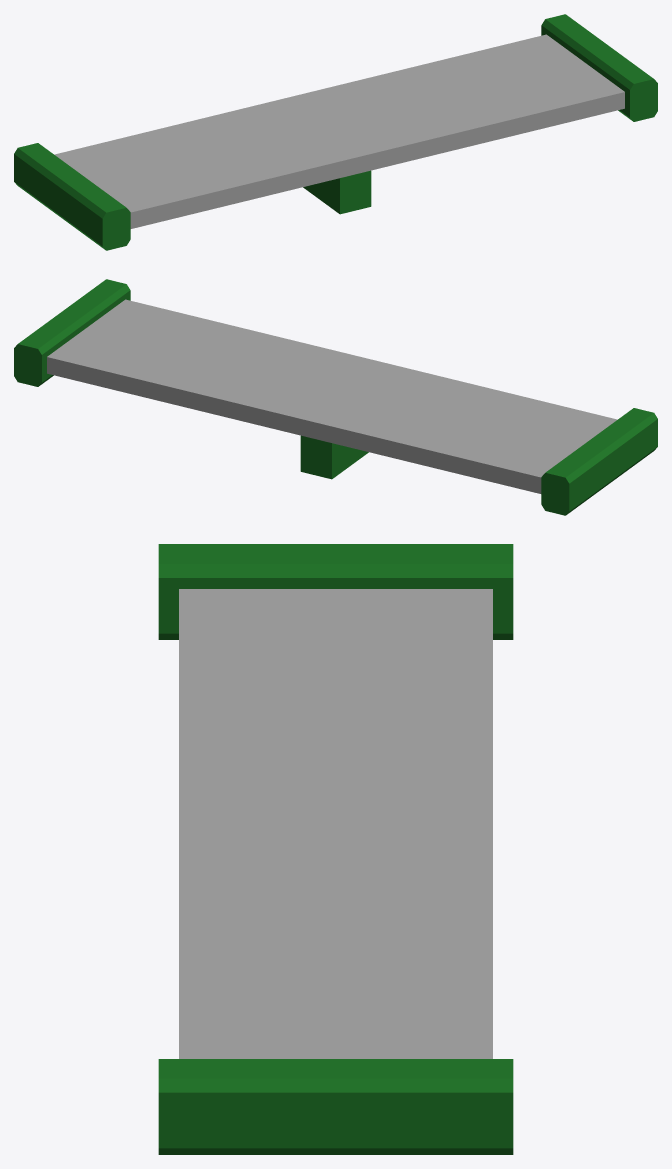
The model's file is WingsKart1.fbx.
3 views of the same model, one above another, from view 1: azimuth 30°, elevation 25°; view 2: azimuth 150°, elevation 25°; view 3: azimuth 270°, elevation 25° (orthographic). The views are drawn at different scales.
Visible parts, largest first — view 1: WingsKart1; view 2: WingsKart1; view 3: WingsKart1.
Boxes of the visible parts, <box> form: WingsKart1: <box>14,14,657,250</box>; WingsKart1: <box>14,279,657,515</box>; WingsKart1: <box>158,544,513,1154</box>.
Size of the model in its own units: 775 by 110 by 214.
